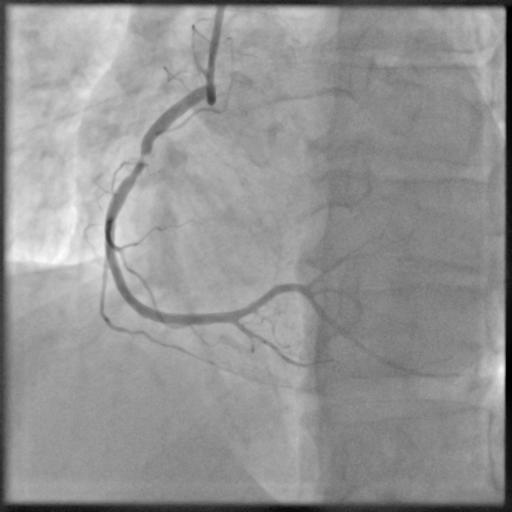Stenosis: (130, 147, 150, 169)
